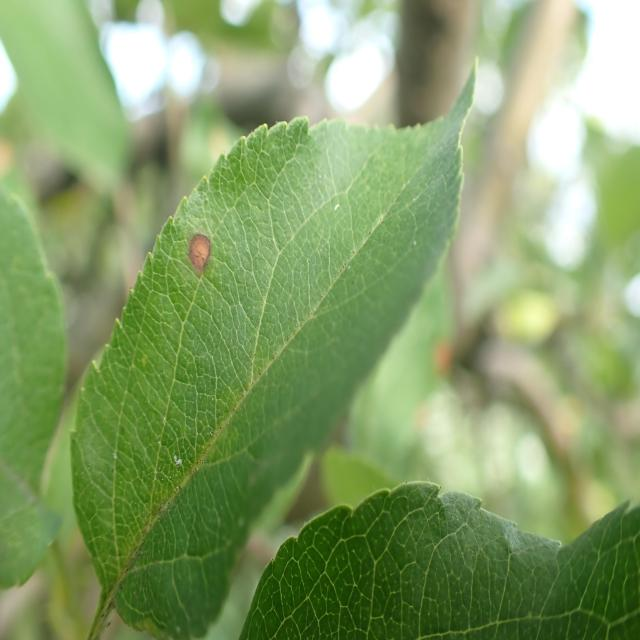Black Rot: (183, 210, 219, 294)
